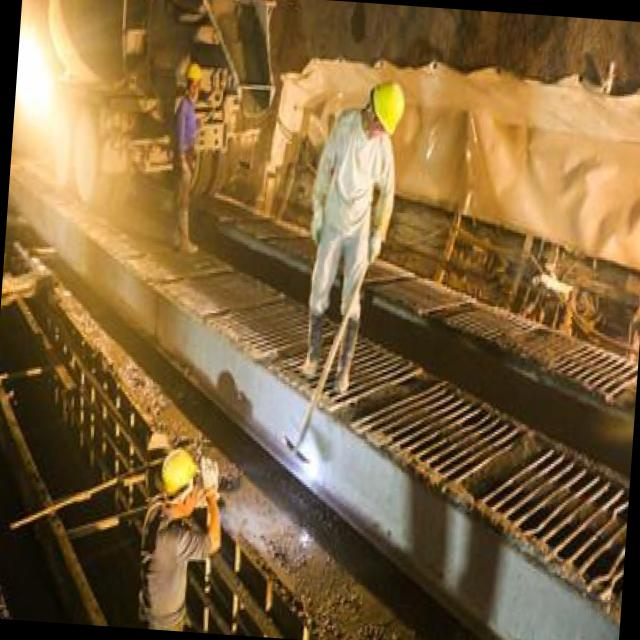helmet: (360, 71, 411, 151), (154, 444, 202, 524), (184, 56, 207, 101)
